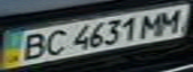1: (118, 15, 142, 42)
3: (103, 17, 124, 46)
4: (69, 22, 93, 52)
6: (87, 19, 109, 48)
B: (15, 30, 51, 62)
C: (39, 28, 69, 57)
M: (151, 7, 187, 36), (136, 10, 169, 38)
